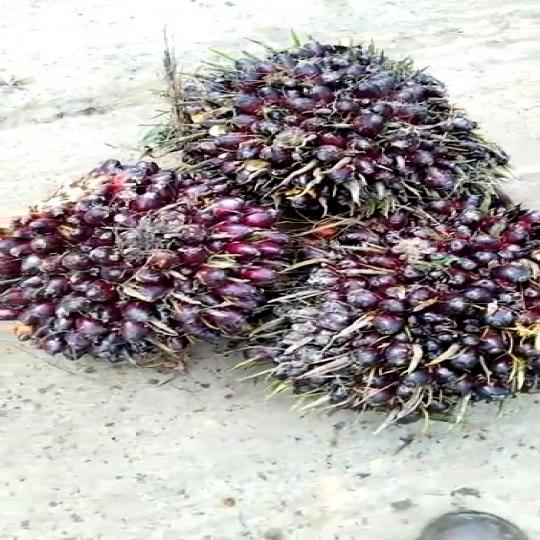kurang masak: (146, 26, 536, 239), (0, 158, 288, 365), (252, 215, 540, 421)
